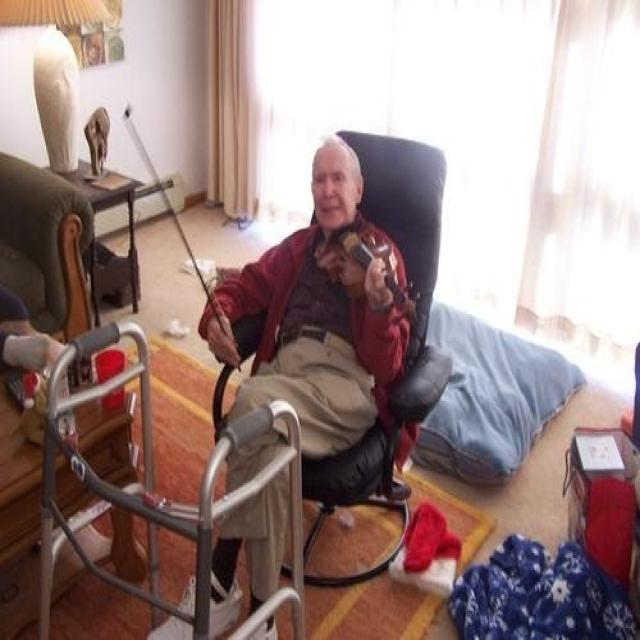violin: (312, 223, 421, 325)
